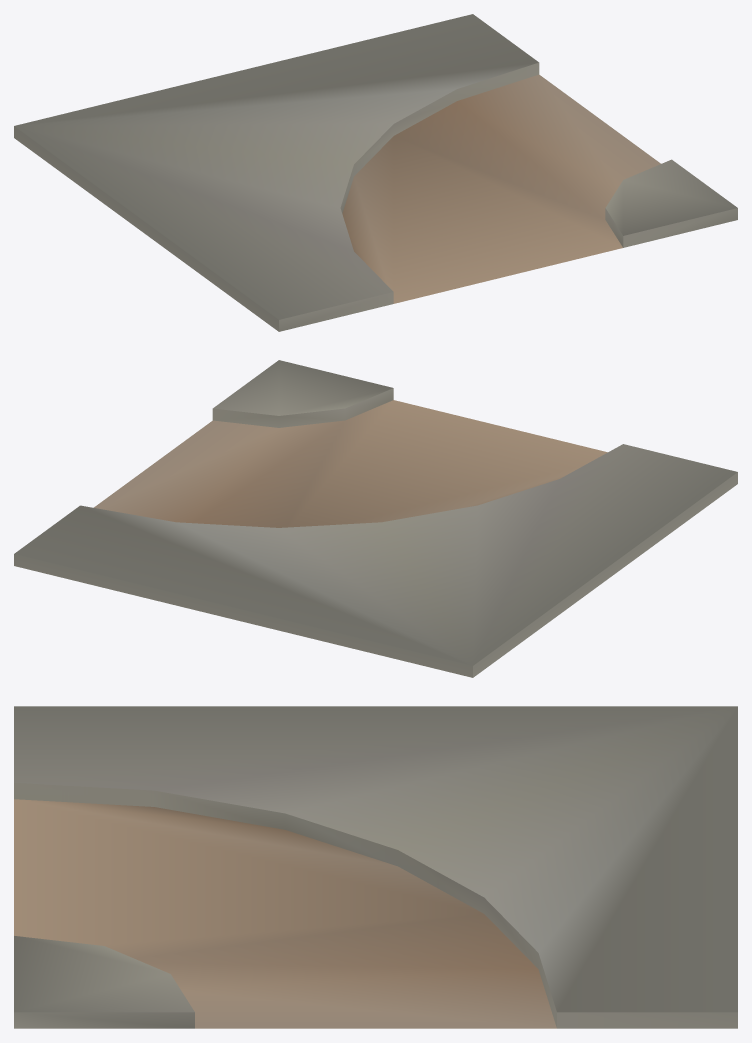
Rendered from road-dirt-corner.glb.
3 views of the same model, one above another, from view 1: azimuth 30°, elevation 25°; view 2: azimuth 150°, elevation 25°; view 3: azimuth 270°, elevation 25° (orthographic). The views are drawn at different scales.
Visible parts, largest first — view 1: road-dirt-corner; view 2: road-dirt-corner; view 3: road-dirt-corner.
Boxes of the visible parts, bbox=[...] form: road-dirt-corner: bbox=[14, 14, 737, 331]; road-dirt-corner: bbox=[14, 360, 737, 677]; road-dirt-corner: bbox=[14, 706, 737, 1028].
Bounding box in the file's own units: 2 × 0.05 × 2.
